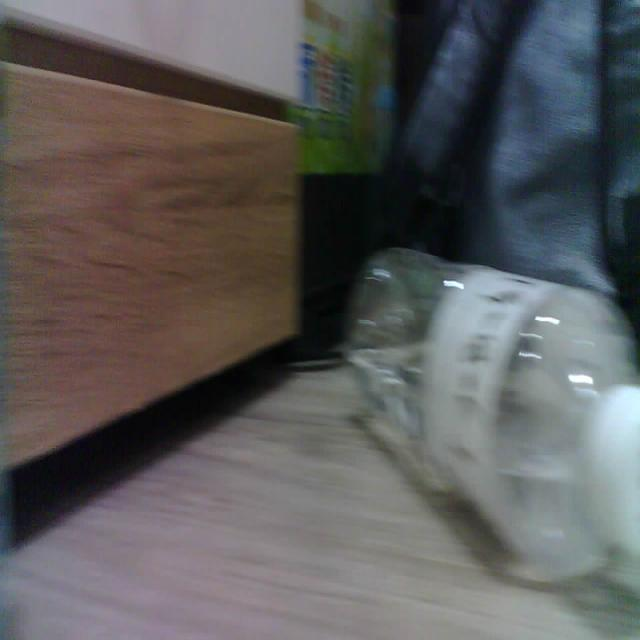bottle: (346, 249, 640, 580)
